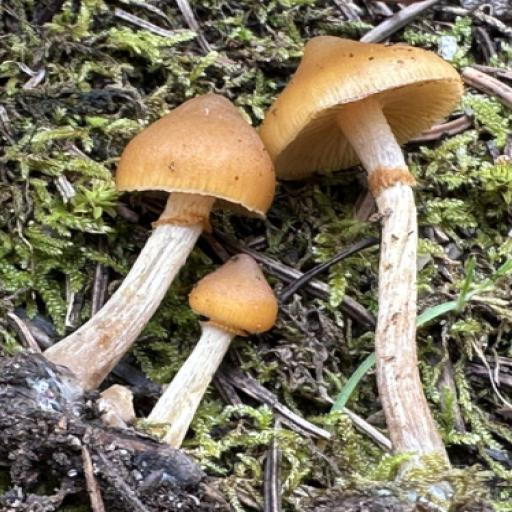mushroom: (100, 34, 472, 381)
